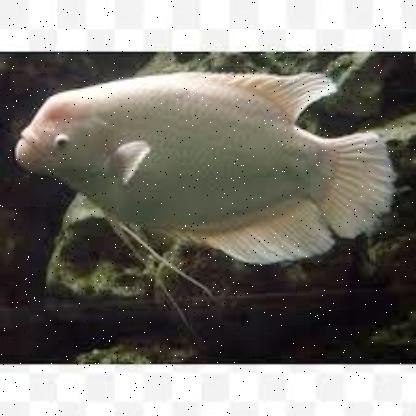gurame: (16, 74, 388, 266)
